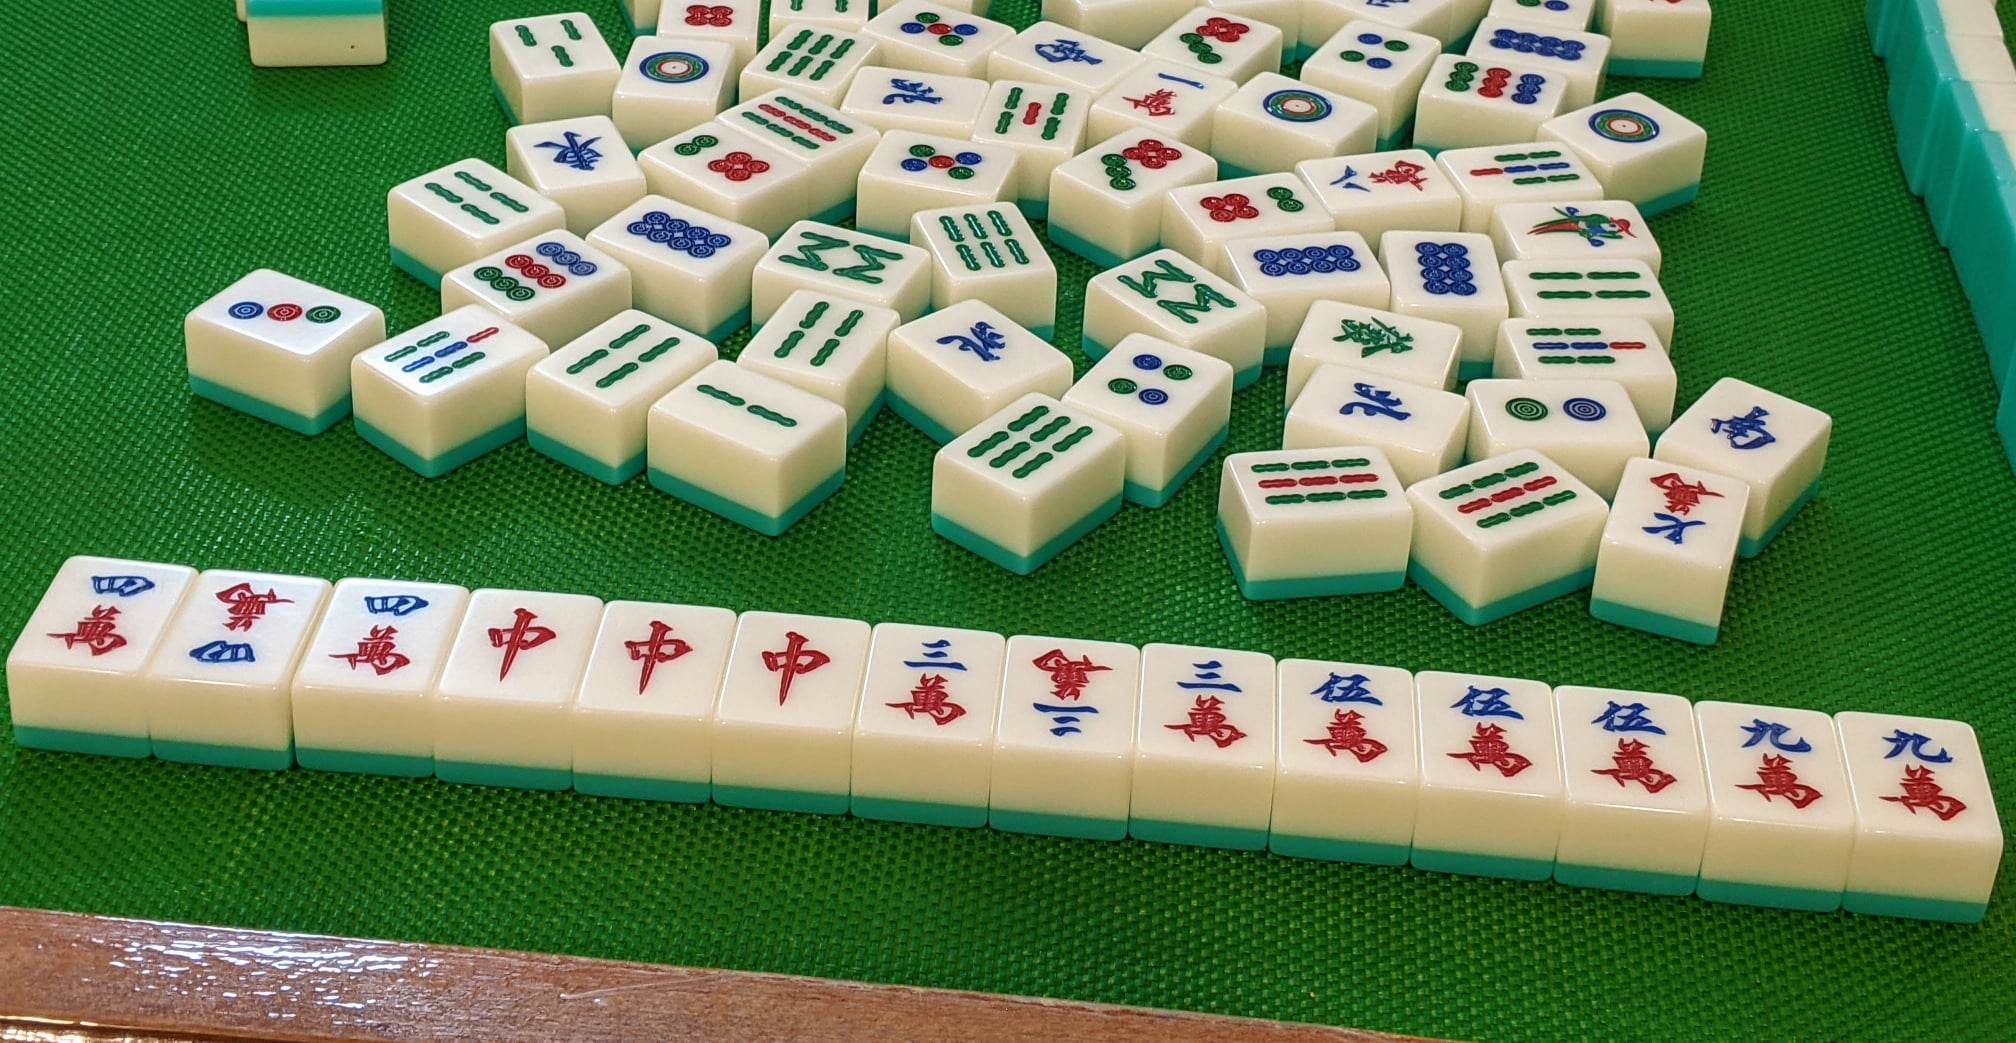bamboo-eight: (1094, 249, 1261, 341), (758, 220, 928, 301)
bamboo-five: (975, 80, 1090, 150)
bamboo-four: (533, 309, 717, 407), (742, 293, 894, 387), (391, 160, 559, 239), (1507, 263, 1669, 314)
bamboo-nine: (1412, 447, 1606, 545), (1229, 447, 1412, 521), (719, 88, 874, 164)
bamboo-one: (1497, 200, 1661, 258)
bamboo-seven: (356, 303, 545, 400), (1440, 144, 1602, 204), (1505, 319, 1672, 375)
bamboo-six: (942, 391, 1116, 496), (918, 202, 1055, 281), (742, 23, 876, 94)
bamboo-three: (491, 13, 618, 81)
bamboo-two: (652, 361, 846, 459)
character-eight: (1299, 148, 1461, 213)
character-five: (1556, 684, 1707, 813), (1418, 670, 1563, 798), (1277, 657, 1415, 784)
character-four: (8, 553, 193, 674), (145, 568, 328, 688), (295, 575, 465, 693)
character-nine: (1835, 710, 2001, 841), (1698, 698, 1855, 829)
character-one: (1092, 59, 1234, 134)
character-seven: (1602, 454, 1750, 568)
character-three: (855, 624, 1005, 742), (995, 635, 1140, 757), (1136, 643, 1274, 768)
circle-eight: (586, 194, 766, 281), (1226, 231, 1384, 290), (1387, 234, 1505, 306), (1469, 19, 1608, 76)
circle-five: (862, 130, 1015, 197), (860, 1, 1019, 63)
circle-four: (1064, 331, 1233, 436), (1305, 19, 1442, 90)
circle-nine: (445, 229, 628, 315), (1422, 53, 1567, 116)
circle-one: (1543, 93, 1702, 165), (1223, 72, 1375, 144), (614, 37, 731, 105)
circle-seven: (1059, 128, 1211, 206), (1140, 7, 1285, 78)
circle-six: (644, 122, 803, 204), (1172, 172, 1328, 235)
circle-three: (188, 267, 378, 357)
circle-two: (1471, 380, 1645, 436)
honor-east_wind: (507, 114, 644, 193)
honor-green_dragon: (1290, 298, 1461, 384)
honor-north_wind: (890, 298, 1073, 396), (1289, 362, 1471, 456), (842, 65, 987, 128)
honor-red_dragon: (438, 587, 602, 706), (577, 600, 735, 717), (715, 611, 868, 730)
honor-south_wind: (1664, 376, 1827, 479), (996, 21, 1142, 93)
